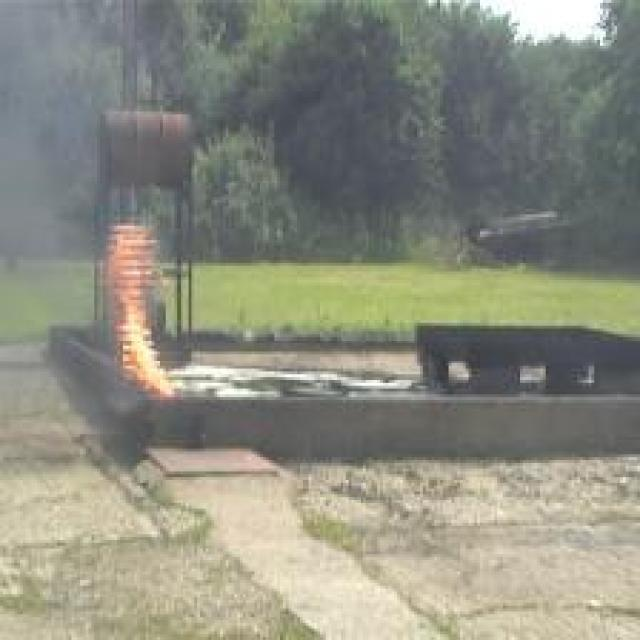Fire: (107, 222, 179, 396)
